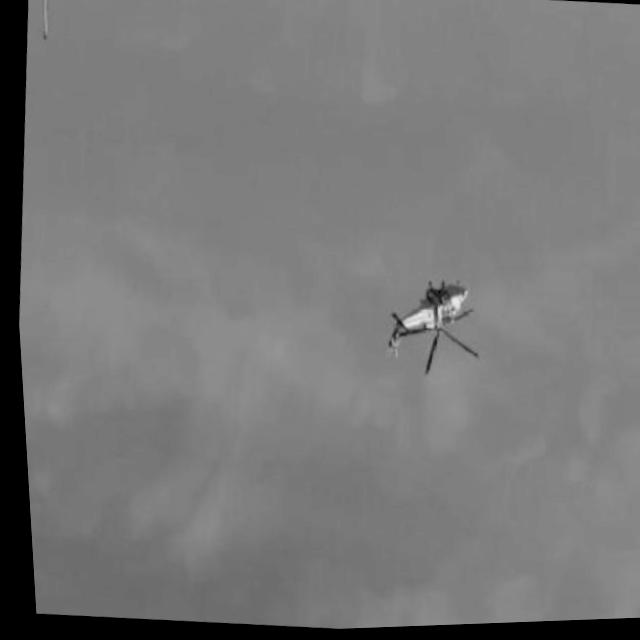helikopter: (375, 277, 480, 384)
